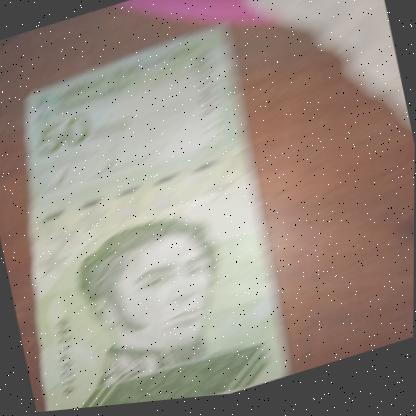fifty-front-vef: (0, 22, 303, 416)
